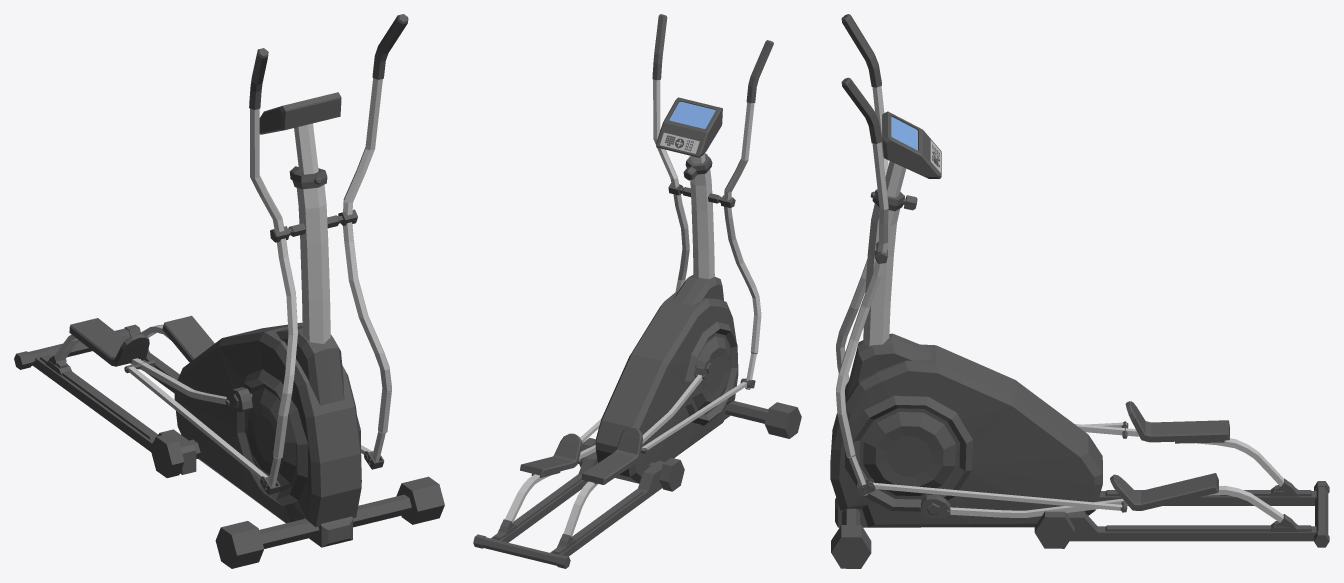
3 views of the same model, side by side, from view 1: azimuth 30°, elevation 25°; view 2: azimuth 150°, elevation 25°; view 3: azimuth 270°, elevation 25° (orthographic). The views are drawn at different scales.
Parts seen in each view (by area): view 1: Cube.011; view 2: Cube.011; view 3: Cube.011.
Boxes of the visible parts, x1,y1,x2,y2 form: Cube.011: (14, 14, 444, 568); Cube.011: (473, 14, 801, 568); Cube.011: (830, 14, 1329, 568).
Size of the model in its own units: 0.3449 by 0.8076 by 0.7692.
